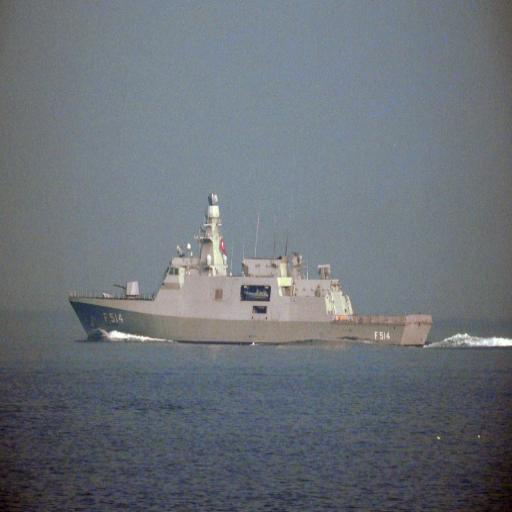Fragata: (64, 186, 434, 350)
